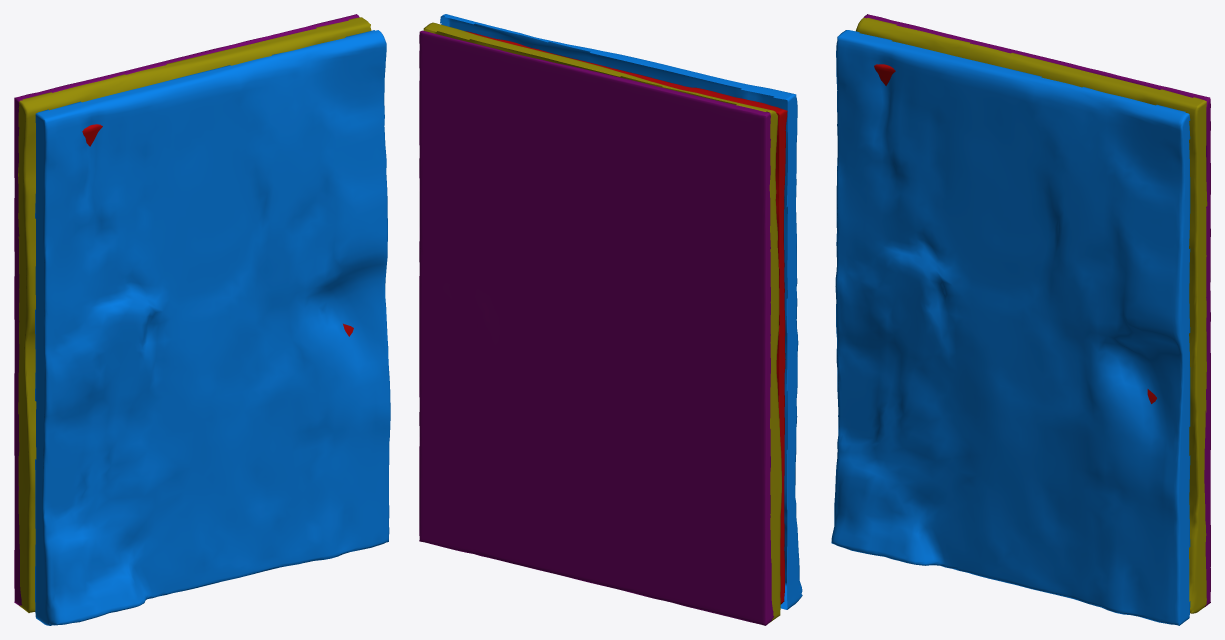
Rendered from MurGlace.fbx.
The picture shows the model from 3 angles, left to right: view 1: azimuth 30°, elevation 25°; view 2: azimuth 150°, elevation 25°; view 3: azimuth 330°, elevation 25°; orthographic projection.
Parts seen in each view (by area): view 1: PM3D_Cube3D_7; view 2: PM3D_Cube3D_7; view 3: PM3D_Cube3D_7.
Part boxes in pixels (box(x1,y1,x2,y2)): PM3D_Cube3D_7: box(14, 14, 390, 625); PM3D_Cube3D_7: box(419, 14, 802, 625); PM3D_Cube3D_7: box(831, 14, 1210, 625).
Size of the model in its own units: 4.51 by 6.33 by 0.9547.
